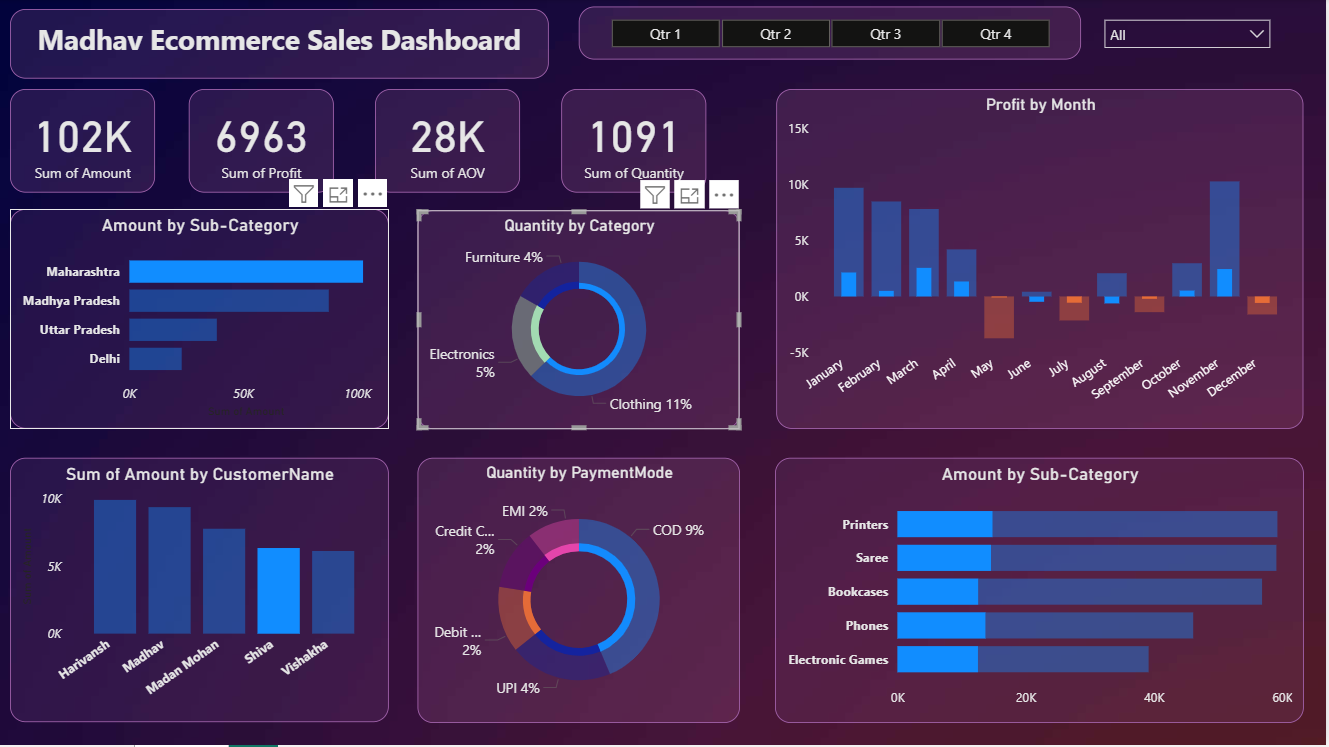

The page's visual inventory and layout, read from the dashboard file:
{"tool":"powerbi","page":{"name":"Page 1","canvas":[1280,720],"ordinal":0},"visuals":[{"type":"textbox","box":[9.7,9.7,520,67.6],"z":0},{"type":"columnChart","title":"Profit by Month","fields":{"Y":["Sum(Details.Profit)"],"Category":["Orders.Order Date.Variation.Date Hierarchy.Month"]},"box":[749.2,86.9,509.1,328.2],"z":1000},{"type":"barChart","title":"Amount by Sub-Category","fields":{"Category":["Details.Sub-Category"],"Y":["Sum(Details.Amount)"]},"box":[748,442.8,510.3,255.8],"z":2000},{"type":"donutChart","title":"Quantity by Category","fields":{"Category":["Details.Category"],"Y":["Sum(Details.Quantity)"]},"box":[403,203.9,311.3,211.1],"z":3000},{"type":"donutChart","title":"Quantity by PaymentMode","fields":{"Category":["Details.PaymentMode"],"Y":["Sum(Details.Quantity)"]},"box":[403,442.8,311.3,255.8],"z":4000},{"type":"card","fields":{"Values":["Sum(Details.Amount)"]},"box":[10,86.7,140,100],"z":5000},{"type":"card","fields":{"Values":["Sum(Details.Quantity)"]},"box":[541.1,86.7,140,100],"z":6000},{"type":"card","fields":{"Values":["Sum(Details.Profit)"]},"box":[182.2,86.7,140,100],"z":7000},{"type":"card","fields":{"Values":["Sum(Details.AOV)"]},"box":[362.2,86.7,140,100],"z":8000},{"type":"barChart","title":"Amount by Sub-Category","fields":{"Category":["Orders.State"],"Y":["Sum(Details.Amount)"]},"box":[10,202.2,365.6,212.2],"z":9000},{"type":"columnChart","fields":{"Category":["Orders.CustomerName"],"Y":["Sum(Details.Amount)"]},"box":[10,443.3,365.6,255.6],"z":10000},{"type":"slicer","fields":{"Values":["Orders.Order Date.Variation.Date Hierarchy.Quarter"]},"box":[558.9,7.8,484.4,51.1],"z":11000},{"type":"slicer","fields":{"Values":["Orders.State"]},"box":[1056,10,180,49],"z":12000}]}

Visuals, with their boxes in screenshot pixels (x1, y1, x2, y2), scaled from the page's 1280x720 canvas onto the 1329x747 screenshot:
textbox: crop(10, 10, 550, 80)
"Profit by Month" columnChart: crop(778, 90, 1306, 431)
"Amount by Sub-Category" barChart: crop(777, 459, 1306, 725)
"Quantity by Category" donutChart: crop(418, 212, 742, 431)
"Quantity by PaymentMode" donutChart: crop(418, 459, 742, 725)
card - Sum(Details.Amount): crop(10, 90, 156, 194)
card - Sum(Details.Quantity): crop(562, 90, 707, 194)
card - Sum(Details.Profit): crop(189, 90, 335, 194)
card - Sum(Details.AOV): crop(376, 90, 521, 194)
"Amount by Sub-Category" barChart: crop(10, 210, 390, 430)
columnChart - Orders.CustomerName x Sum(Details.Amount): crop(10, 460, 390, 725)
slicer - Orders.Order Date.Variation.Date Hierarchy.Quarter: crop(580, 8, 1083, 61)
slicer - Orders.State: crop(1096, 10, 1283, 61)
